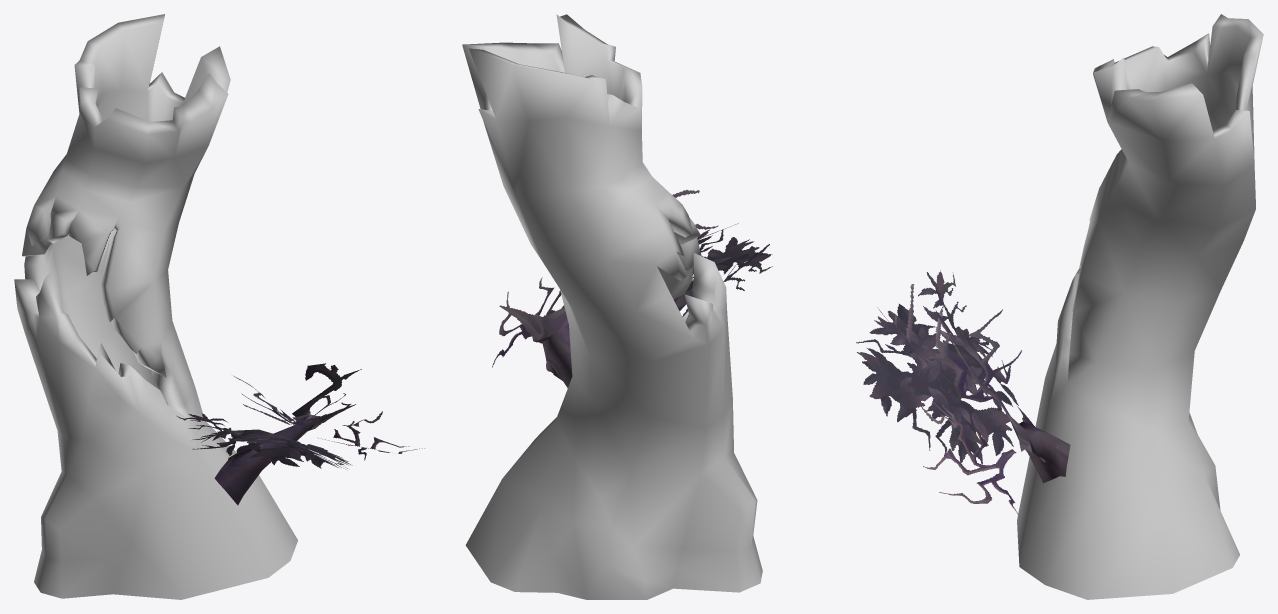
File: TwistedJungle_Tree05.FBX
The picture shows the model from 3 angles, left to right: view 1: azimuth 30°, elevation 25°; view 2: azimuth 150°, elevation 25°; view 3: azimuth 270°, elevation 25°; orthographic projection. The views are drawn at different scales.
Parts seen in each view (by area): view 1: TwistedJungle_Tree05; view 2: TwistedJungle_Tree05; view 3: TwistedJungle_Tree05.
Boxes of the visible parts, <box> form: TwistedJungle_Tree05: <box>14,14,424,599</box>; TwistedJungle_Tree05: <box>462,14,772,599</box>; TwistedJungle_Tree05: <box>856,14,1263,599</box>.
Size of the model in its own units: 272 by 399 by 311.
